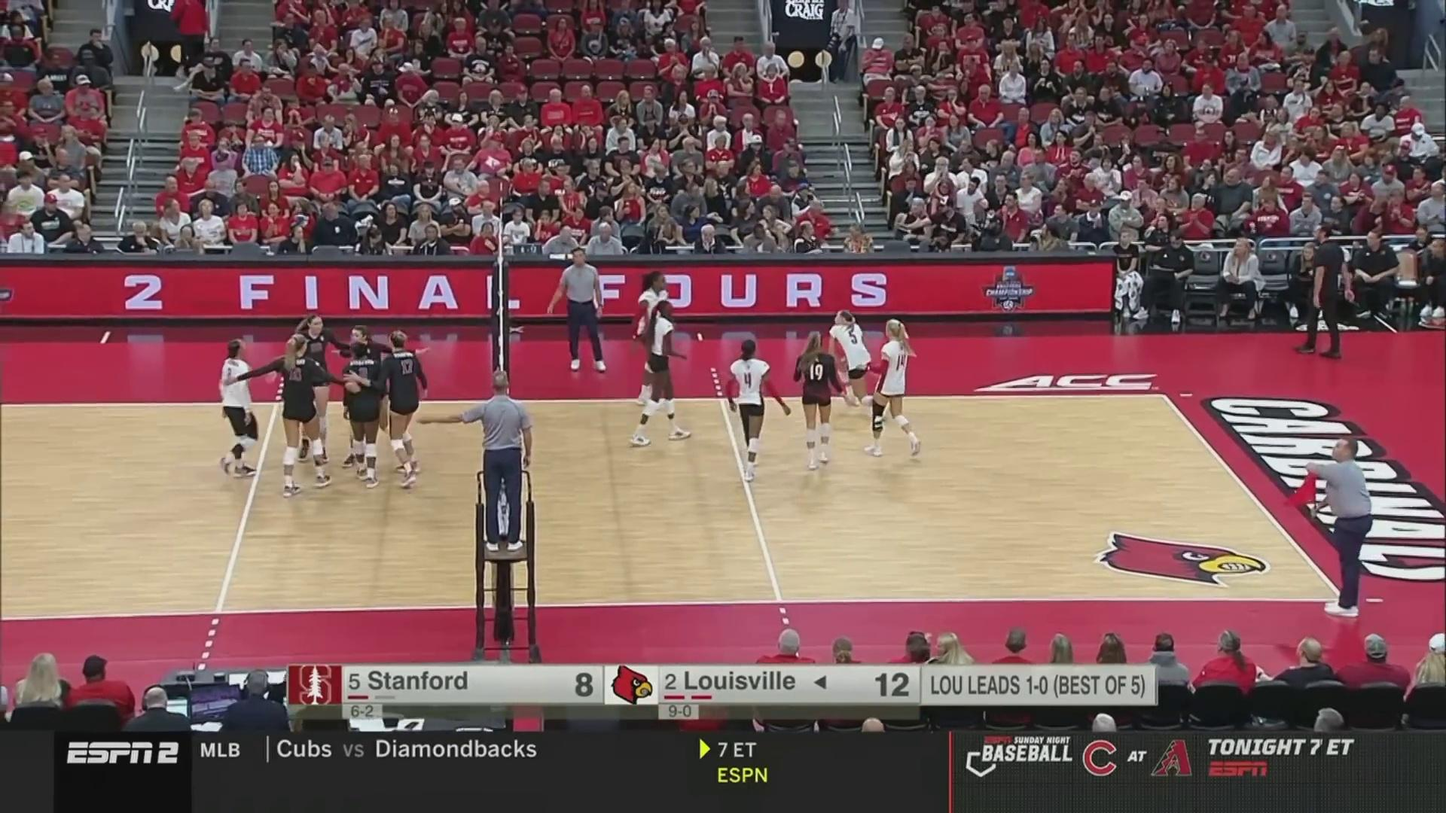player: (721, 343, 788, 474), (857, 319, 917, 461), (275, 337, 327, 496), (632, 301, 688, 448), (280, 312, 333, 466), (794, 331, 851, 470), (830, 309, 889, 422), (634, 274, 682, 412), (379, 349, 426, 488), (215, 345, 261, 484), (344, 326, 385, 474), (341, 345, 378, 487)
refree: (1302, 435, 1372, 622), (459, 385, 531, 549), (552, 250, 608, 376)
